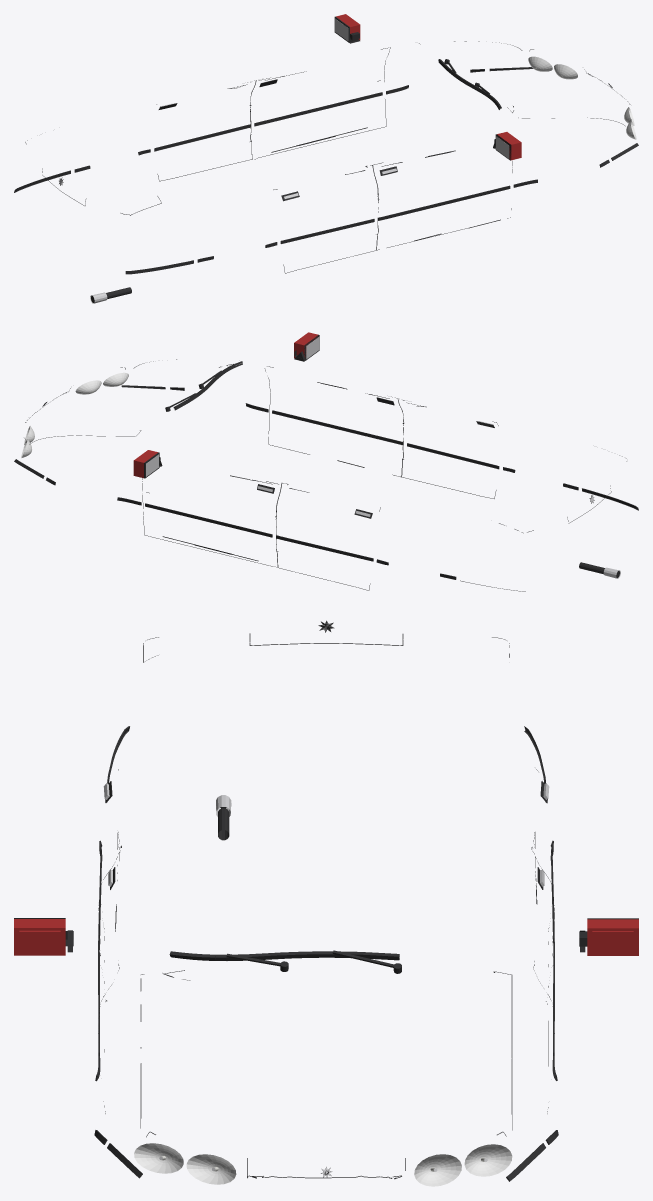
File: barao_detalhe.glb
3 renders of one model, top to bottom at view 1: azimuth 30°, elevation 25°; view 2: azimuth 150°, elevation 25°; view 3: azimuth 270°, elevation 25°, orthographic. The views are drawn at different scales.
Parts seen in each view (by area): view 1: det_door_fl, det_body, det_door_fr, det_door_rr, det_door_rl, det_mirror_right, det_mirror_left, det_headlight_left, det_bumper_rear; view 2: det_door_fl, det_body, det_door_fr, det_door_rl, det_door_rr, det_mirror_left, det_mirror_right, det_headlight_right; view 3: det_body, det_headlight_left, det_headlight_right, det_mirror_right, det_mirror_left, det_hood.
Part boxes in pixels (x1=…): det_door_fl: x1=250, y1=47, x2=390, y2=159; det_body: x1=74, y1=59, x2=501, y2=303; det_door_fr: x1=372, y1=150, x2=512, y2=250; det_door_rr: x1=273, y1=165, x2=378, y2=273; det_door_rl: x1=154, y1=80, x2=255, y2=181; det_mirror_right: x1=493, y1=132, x2=521, y2=160; det_mirror_left: x1=334, y1=14, x2=360, y2=43; det_headlight_left: x1=528, y1=56, x2=577, y2=79; det_bumper_rear: x1=14, y1=170, x2=193, y2=274; det_door_fl: x1=142, y1=475, x2=281, y2=567; det_body: x1=165, y1=361, x2=620, y2=579; det_door_fr: x1=264, y1=366, x2=403, y2=477; det_door_rl: x1=276, y1=483, x2=380, y2=590; det_door_rr: x1=398, y1=398, x2=499, y2=498; det_mirror_left: x1=133, y1=450, x2=162, y2=478; det_mirror_right: x1=294, y1=332, x2=319, y2=361; det_headlight_right: x1=75, y1=372, x2=128, y2=394; det_body: x1=99, y1=783, x2=553, y2=973; det_headlight_left: x1=414, y1=1144, x2=512, y2=1186; det_headlight_right: x1=134, y1=1143, x2=236, y2=1184; det_mirror_right: x1=14, y1=918, x2=73, y2=955; det_mirror_left: x1=579, y1=918, x2=638, y2=955; det_hood: x1=140, y1=970, x2=512, y2=1179.
Size of the model in its own units: 4.28 by 0.8433 by 2.36.
